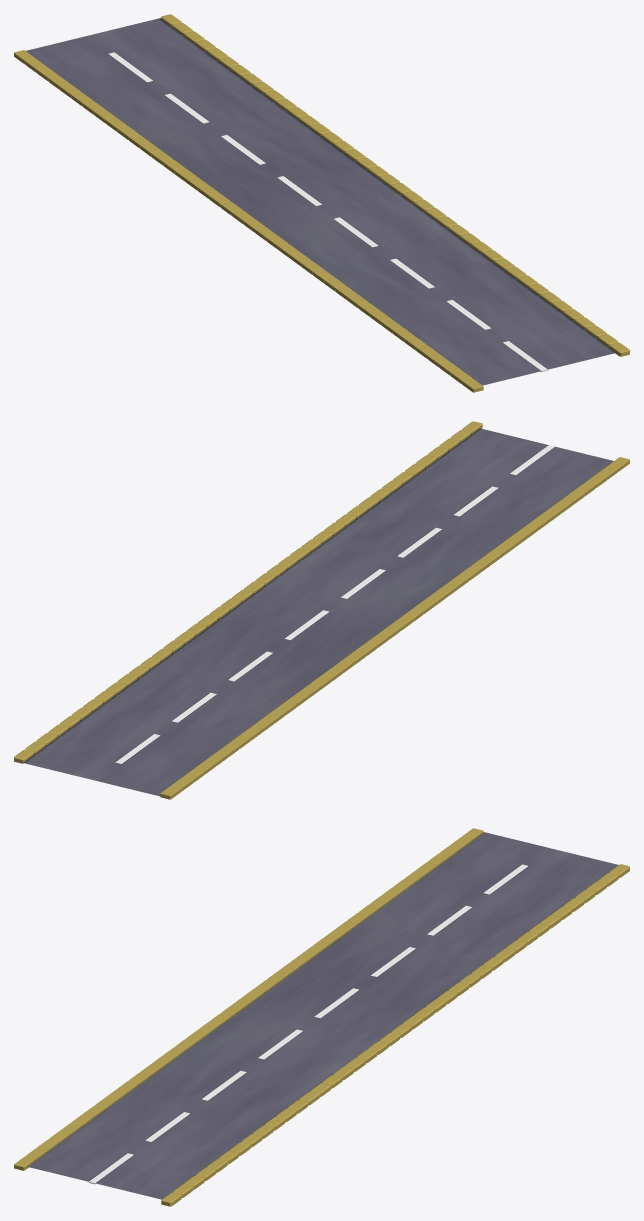
File: road_export.glb
3 renders of one model, top to bottom at view 1: azimuth 30°, elevation 25°; view 2: azimuth 150°, elevation 25°; view 3: azimuth 330°, elevation 25°, orthographic.
Visible parts, largest first — view 1: road; view 2: road; view 3: road.
Boxes of the visible parts, x1=… form: road: x1=14, y1=14, x2=629, y2=392; road: x1=14, y1=421, x2=629, y2=799; road: x1=14, y1=828, x2=629, y2=1206.
Bounding box in the file's own units: 3.22 × 0.0905 × 16.29.
Materials: 3 (1 with a texture image).
